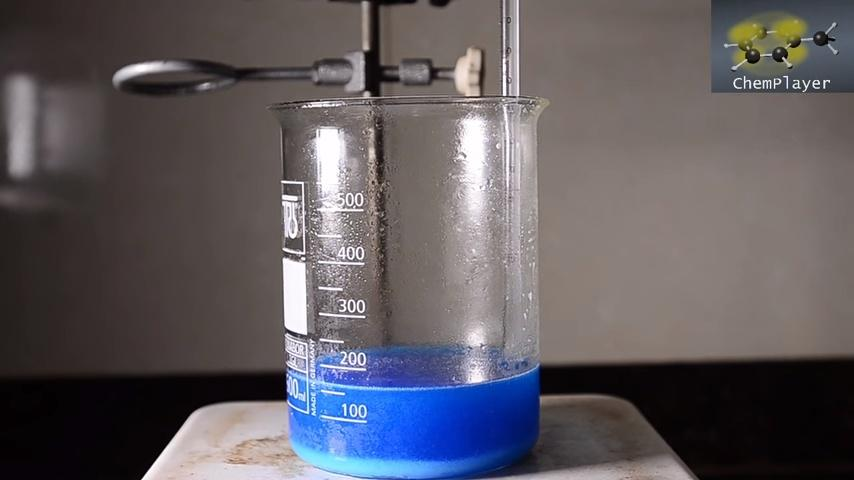Beaker: (270, 72, 595, 474)
